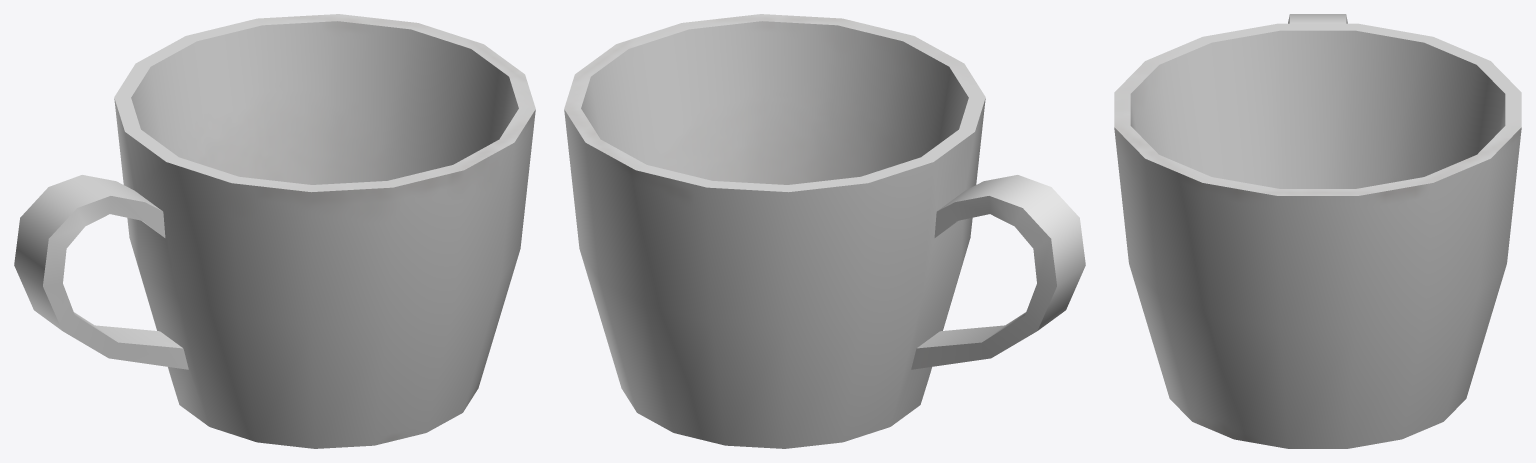
File: CupC.FBX
The picture shows the model from 3 angles, left to right: view 1: azimuth 30°, elevation 25°; view 2: azimuth 150°, elevation 25°; view 3: azimuth 270°, elevation 25°; orthographic projection.
Visible parts, largest first — view 1: CupC_LOD0; view 2: CupC_LOD0; view 3: CupC_LOD0.
Part boxes in pixels (<box>): CupC_LOD0: <box>14,14,535,448</box>; CupC_LOD0: <box>564,14,1085,448</box>; CupC_LOD0: <box>1114,14,1521,448</box>.
Size of what is drawn, in the model's own units: 11.71 by 6.6 by 8.83.
